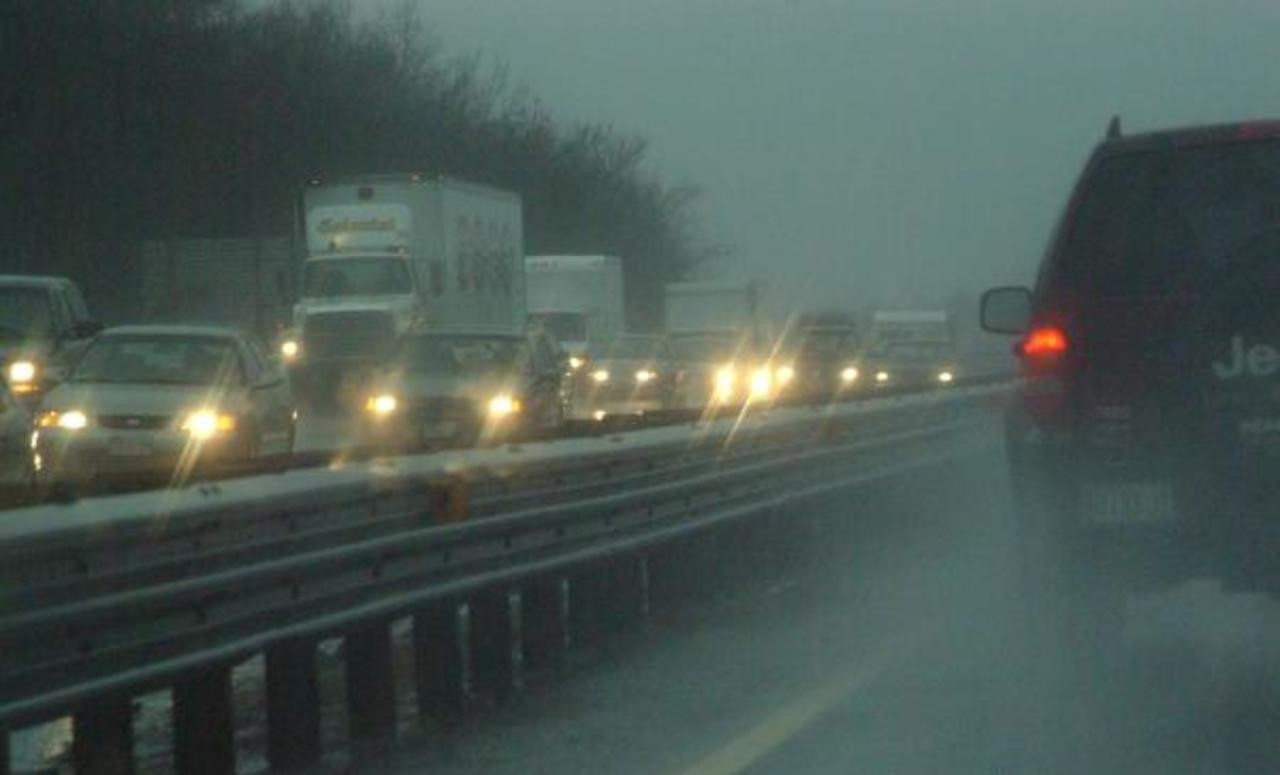car: (992, 115, 1272, 640), (37, 320, 299, 499), (365, 323, 555, 429), (2, 274, 100, 400), (573, 333, 675, 400), (768, 330, 859, 385), (871, 340, 957, 383)
truck: (288, 183, 526, 361), (663, 280, 757, 400), (528, 253, 621, 373)
